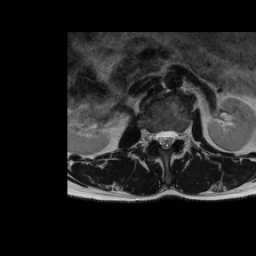CCS_normal: (163, 124, 169, 154)
LFS_normal: (177, 124, 183, 145)
LLS_normal: (169, 124, 177, 147)
RFS_normal: (149, 124, 155, 146)
RLS_normal: (155, 124, 163, 149)
